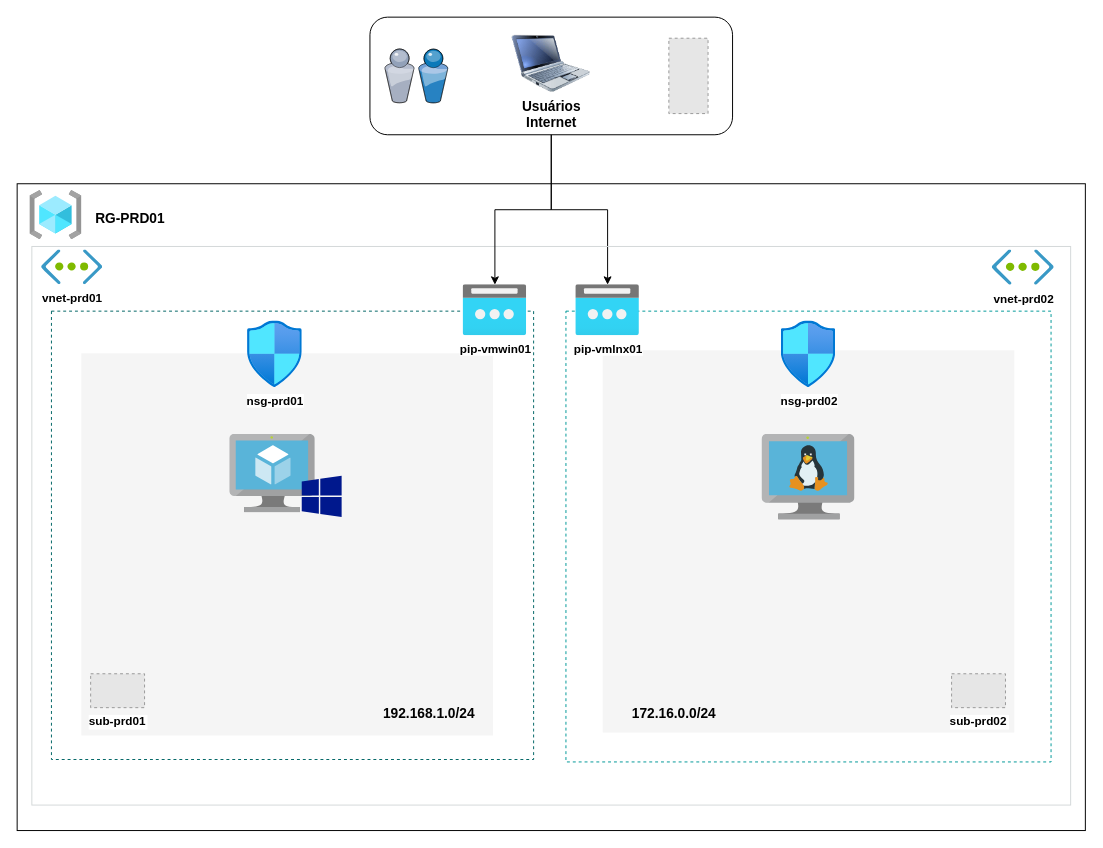
Some shapes in this 1103 by 848 pixel diagram are drawn without their labels. Grey dashed boxes stand in for pictures. Each missing label, with the box of its shape:
vm-lnx01: (762, 434, 854, 519)
vm-win01: (229, 434, 315, 512)
